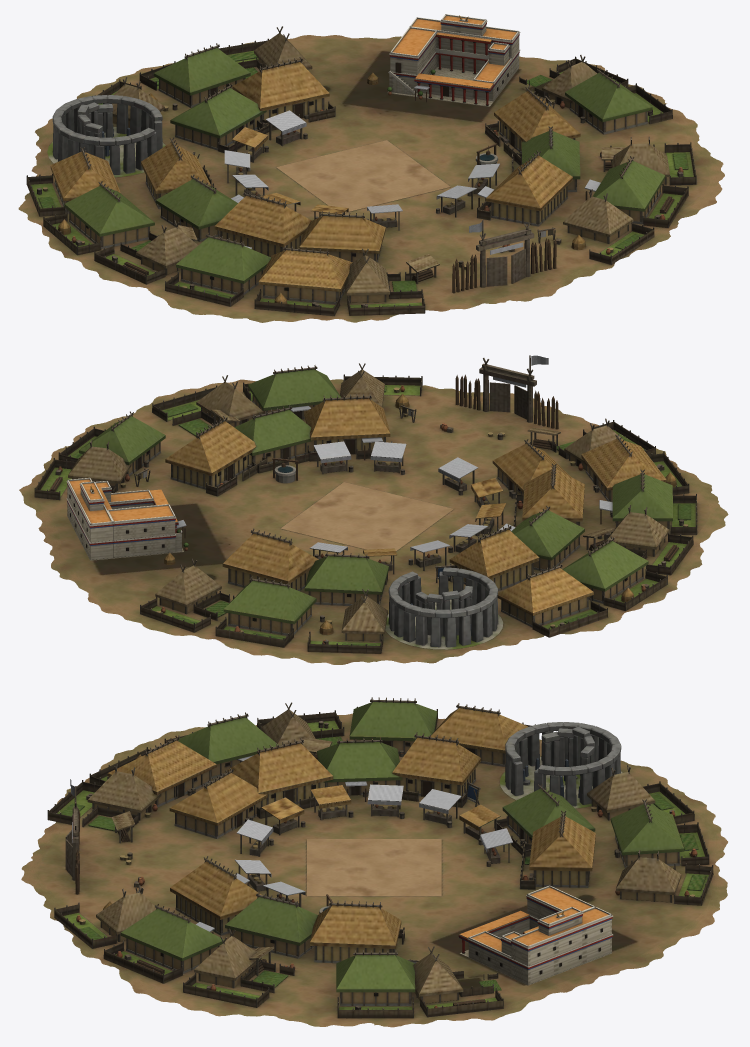
File: bronze-town-big-a-europe.glb
3 views of the same model, one above another, from view 1: azimuth 30°, elevation 25°; view 2: azimuth 150°, elevation 25°; view 3: azimuth 270°, elevation 25° (orthographic). The views are drawn at different scales.
Visible parts, largest first — view 1: LOD0; view 2: LOD0; view 3: LOD0.
Part boxes in pixels (x1,y1,x2,y2): LOD0: (18, 14, 724, 322); LOD0: (19, 355, 728, 664); LOD0: (21, 697, 727, 1027).
Size of what is drawn, in the model's own units: 7.93 by 0.8302 by 7.49.
3 materials, 3 textured.
